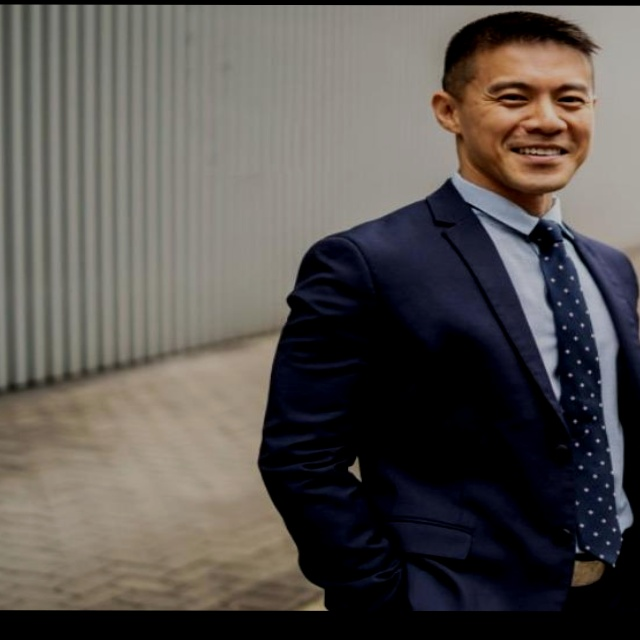Sin_Casco_Mascarrilla: (434, 13, 602, 191)
Sin_Chaleco: (290, 195, 640, 605)
